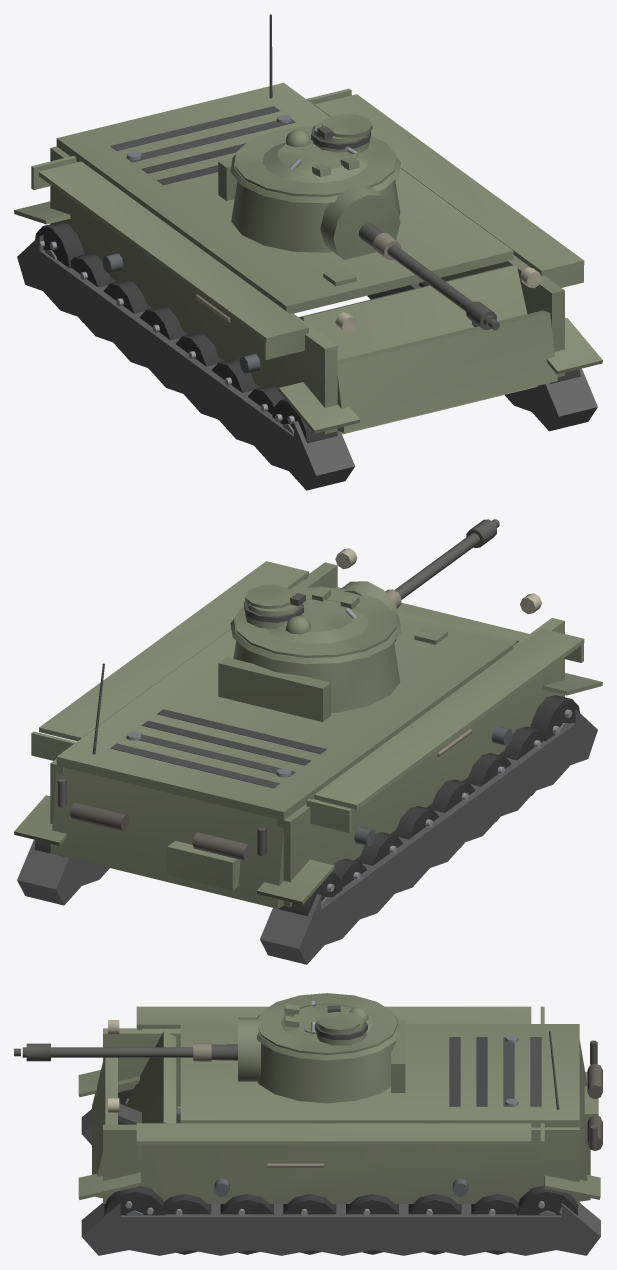
3 views of the same model, one above another, from view 1: azimuth 30°, elevation 25°; view 2: azimuth 150°, elevation 25°; view 3: azimuth 270°, elevation 25° (orthographic). The views are drawn at different scales.
Parts seen in each view (by area): view 1: hullSide, hullTop, tracks, lowerPlate, glacis, turretRoof, turretFront, mantlet, barrel, wheel7, turretSide, wheel1 (+7 smaller); view 2: hullTop, hullSide, tracks, hullRear, turretRoof, turretFront, turretRear, barrel, turretSide, wheel6, lowerPlate, glacis (+8 smaller); view 3: hullSide, hullTop, tracks, turretRoof, turretFront, glacis, barrel, hullRear, lowerPlate, mantlet, wheel14, wheel15 (+8 smaller).
Boxes of the visible parts, <box> form: hullSide: <box>31,88,584,434</box>; hullTop: <box>56,82,513,313</box>; tracks: <box>14,201,602,490</box>; lowerPlate: <box>337,310,557,432</box>; glacis: <box>299,265,537,434</box>; turretRoof: <box>234,114,396,196</box>; turretFront: <box>231,180,400,252</box>; mantlet: <box>320,185,400,259</box>; barrel: <box>359,223,499,330</box>; wheel7: <box>35,222,84,268</box>; turretSide: <box>230,153,400,203</box>; wheel1: <box>103,280,152,313</box>; hullTop: <box>56,616,513,820</box>; hullSide: <box>31,548,584,906</box>; tracks: <box>14,673,602,964</box>; hullRear: <box>50,663,283,908</box>; turretRoof: <box>234,585,396,657</box>; turretFront: <box>233,641,400,712</box>; turretRear: <box>218,657,330,721</box>; barrel: <box>385,519,499,608</box>; turretSide: <box>230,614,400,664</box>; wheel6: <box>530,695,579,741</box>; lowerPlate: <box>335,587,529,642</box>; glacis: <box>397,611,517,645</box>; hullSide: <box>103,1006,579,1203</box>; hullTop: <box>180,1024,579,1127</box>; tracks: <box>78,1070,600,1255</box>; turretRoof: <box>258,993,397,1054</box>; turretFront: <box>257,1041,396,1103</box>; glacis: <box>118,1031,176,1124</box>; barrel: <box>14,1043,237,1061</box>; hullRear: <box>549,1031,602,1201</box>; lowerPlate: <box>92,1057,117,1198</box>; mantlet: <box>238,1017,260,1081</box>; wheel14: <box>104,1186,165,1215</box>; wheel15: <box>517,1185,577,1215</box>.
Size of the model in its own units: 4.48 by 3.13 by 8.28.
